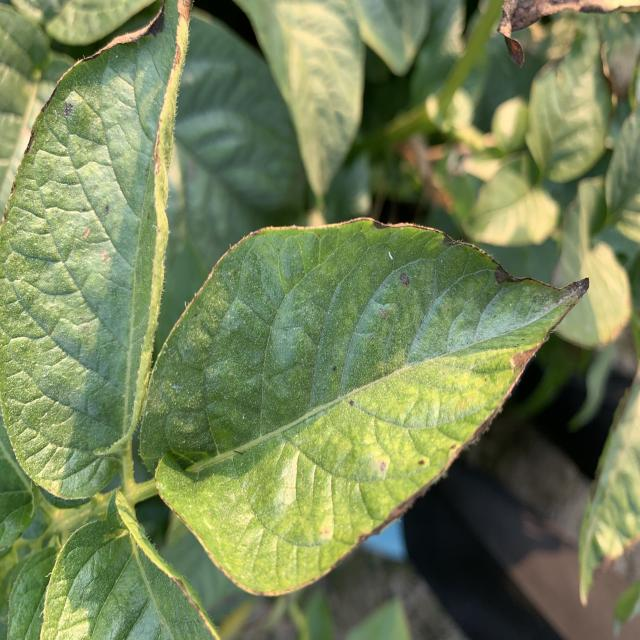lateblight: (445, 408, 499, 470), (371, 485, 428, 532), (510, 347, 539, 375), (561, 278, 589, 305), (435, 232, 471, 247), (495, 265, 521, 283), (372, 220, 391, 228)
